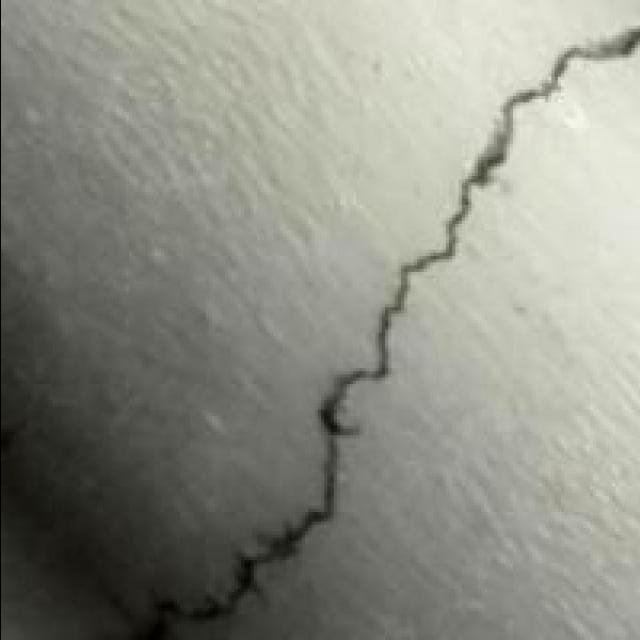SurfaceCrack: (124, 4, 640, 640)
